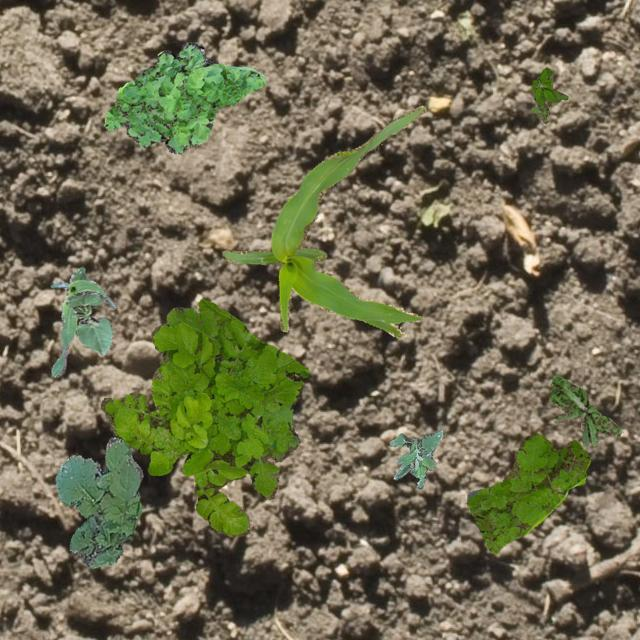crop: (222, 105, 424, 336), (49, 266, 114, 376), (65, 291, 112, 354)
weed: (100, 298, 308, 536), (102, 41, 264, 152), (466, 432, 590, 552), (55, 436, 142, 568), (548, 374, 620, 446), (388, 428, 442, 488), (530, 66, 566, 122)
